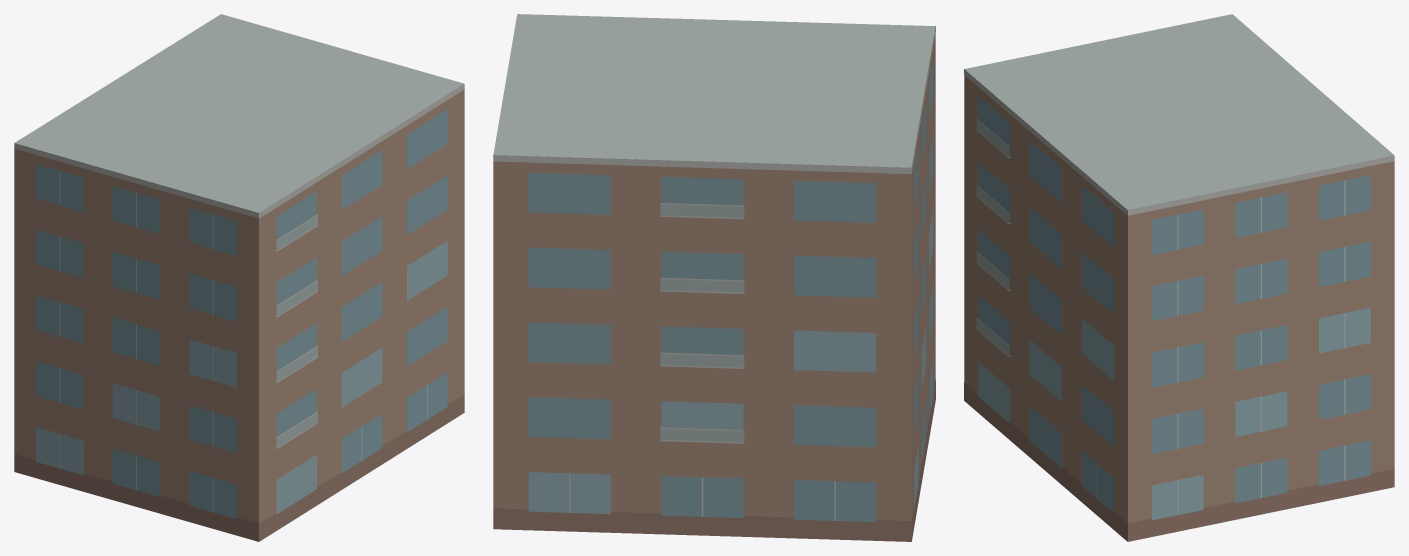
Rendered from survey-upis-32725800.glb.
3 renders of one model, left to right at view 1: azimuth 30°, elevation 25°; view 2: azimuth 150°, elevation 25°; view 3: azimuth 270°, elevation 25°, orthographic. The views are drawn at different scales.
Parts seen in each view (by area): view 1: survey-upis-32725800.tmp; view 2: survey-upis-32725800.tmp; view 3: survey-upis-32725800.tmp.
Boxes of the visible parts, x1,y1,x2,y2 form: survey-upis-32725800.tmp: (14,14,464,541); survey-upis-32725800.tmp: (493,14,935,541); survey-upis-32725800.tmp: (964,14,1394,541).
Size of the model in its own units: 18.15 by 14.3 by 16.83.
